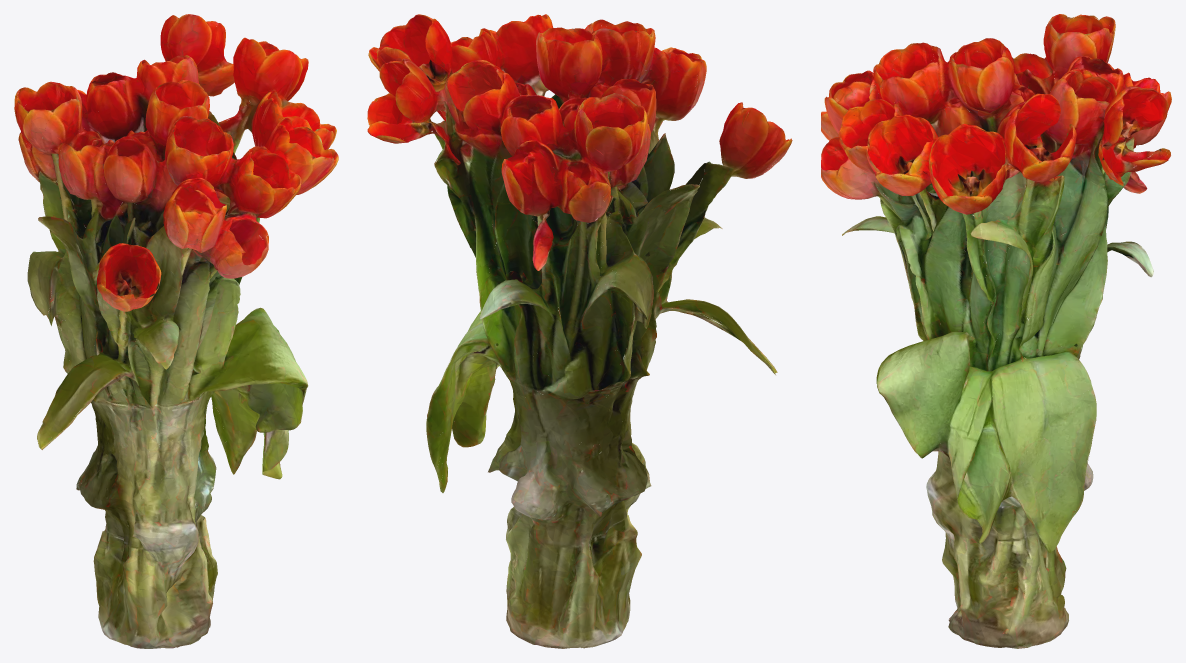
Rendered from tulipes.glb.
3 renders of one model, left to right at view 1: azimuth 30°, elevation 25°; view 2: azimuth 150°, elevation 25°; view 3: azimuth 270°, elevation 25°, orthographic. The views are drawn at different scales.
Parts seen in each view (by area): view 1: Object_4; view 2: Object_4; view 3: Object_4.
Boxes of the visible parts, x1,y1,x2,y2 form: Object_4: (14,14,338,648); Object_4: (367,14,792,648); Object_4: (821,14,1171,648).
Size of the model in its own units: 0.2061 by 0.3376 by 0.1825.
Materials: 1 (1 with a texture image).
